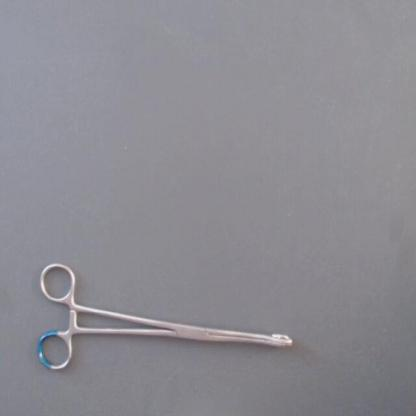Sponge Forceps: (30, 252, 306, 382)
